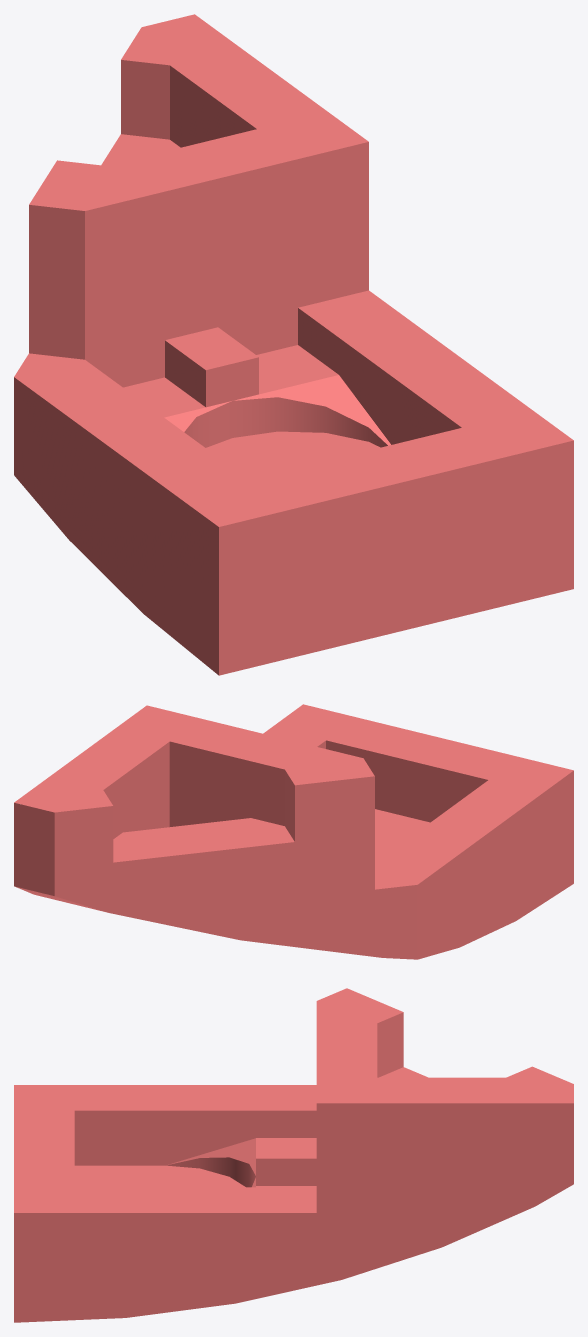
The picture shows the model from 3 angles, top to bottom: view 1: azimuth 30°, elevation 25°; view 2: azimuth 150°, elevation 25°; view 3: azimuth 270°, elevation 25°; orthographic projection. The views are drawn at different scales.
Parts seen in each view (by area): view 1: 29120.dat; view 2: 29120.dat; view 3: 29120.dat.
Boxes of the visible parts, x1,y1,x2,y2 form: 29120.dat: (14,14,573,675); 29120.dat: (14,704,573,959); 29120.dat: (14,988,573,1322).
Bounding box in the file's own units: 0.14 × 0.112 × 0.259.
